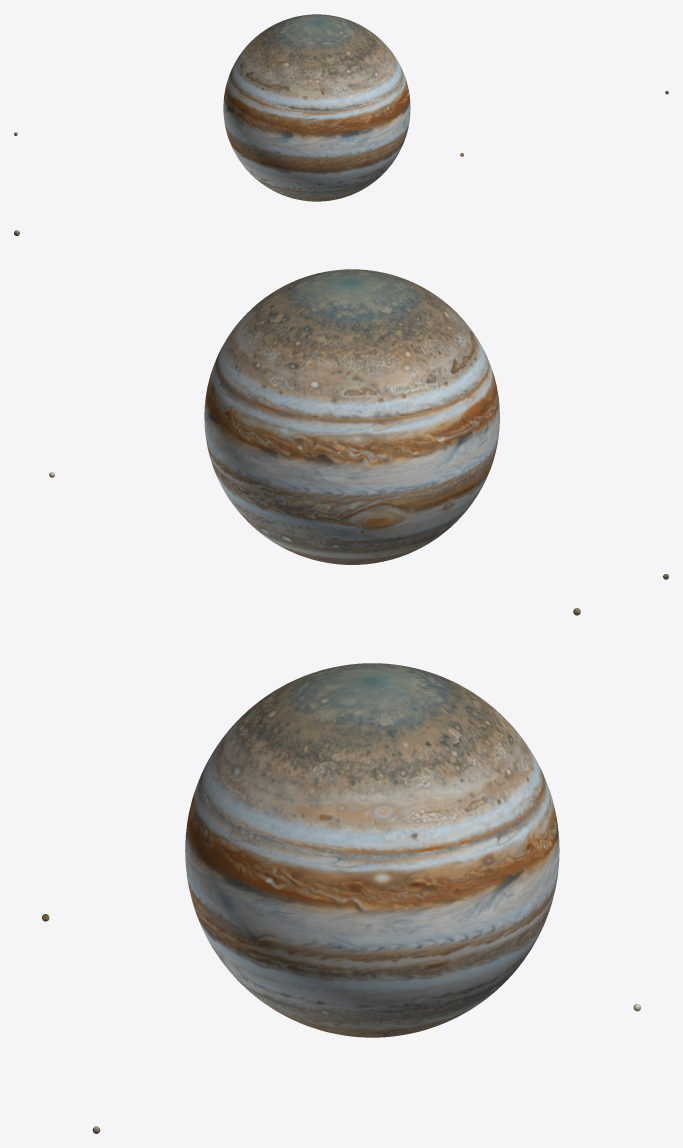
3 renders of one model, top to bottom at view 1: azimuth 30°, elevation 25°; view 2: azimuth 150°, elevation 25°; view 3: azimuth 270°, elevation 25°, orthographic. The views are drawn at different scales.
Parts seen in each view (by area): view 1: Jupiter; view 2: Jupiter; view 3: Jupiter.
Part boxes in pixels (left/top/right/bottom): Jupiter: left=223, top=14, right=410, bottom=201; Jupiter: left=204, top=269, right=499, bottom=564; Jupiter: left=185, top=663, right=559, bottom=1037.
Size of what is drawn, in the model's own units: 6.59 by 2 by 3.2.
Materials: 5 (5 with a texture image).
